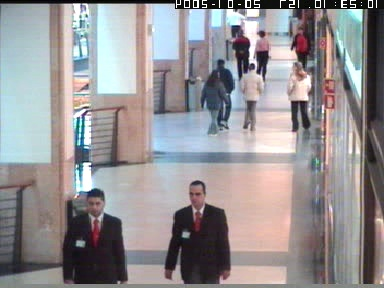person: (163, 181, 229, 285), (63, 187, 129, 284), (201, 69, 230, 137), (285, 60, 311, 131), (211, 60, 235, 130), (240, 62, 264, 129), (253, 29, 273, 79), (291, 24, 311, 69), (232, 31, 250, 76), (226, 9, 246, 37)
